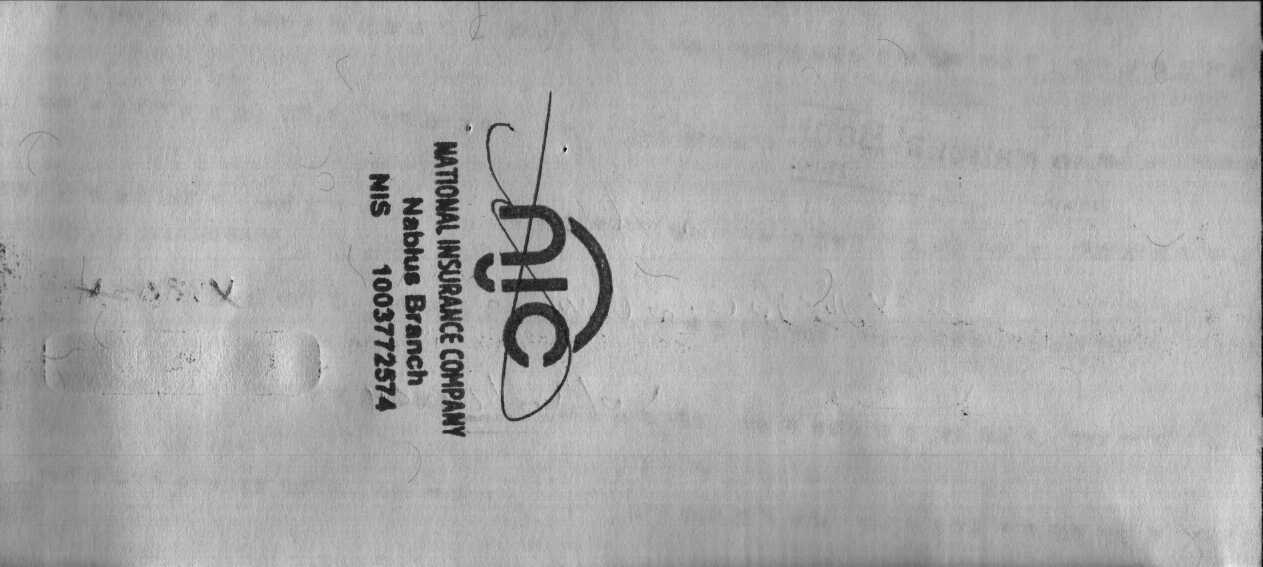stamp: (361, 123, 619, 446)
